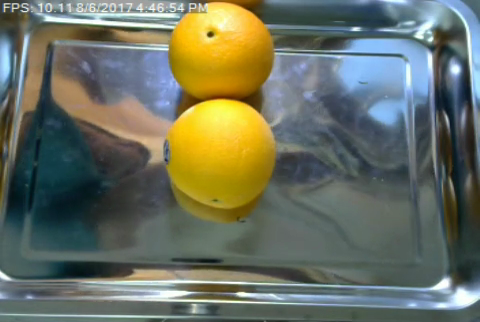Orange: (162, 98, 276, 208), (169, 2, 276, 100)
